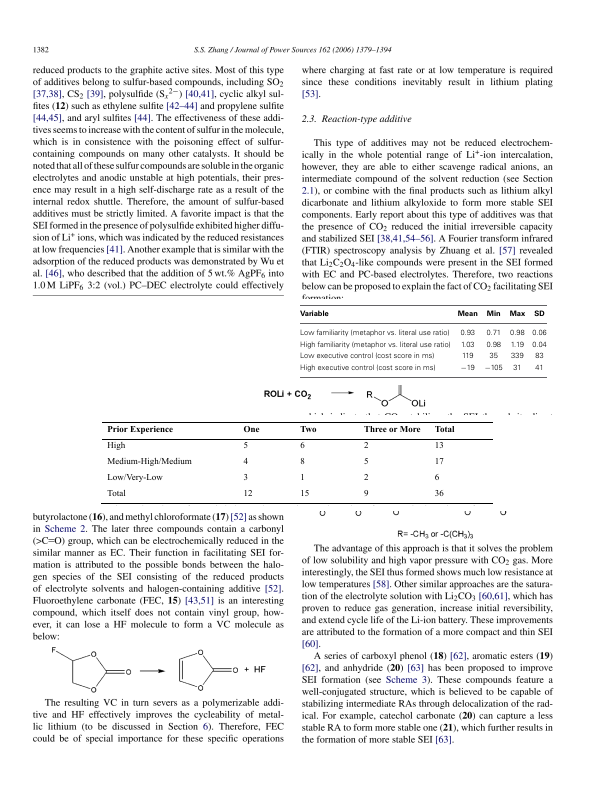borderless: (101, 420, 493, 503), (299, 304, 547, 378)
cell: (298, 341, 451, 350), (298, 329, 450, 338), (298, 364, 436, 373), (298, 352, 435, 361), (106, 457, 192, 467), (106, 424, 173, 434), (362, 424, 421, 434), (106, 473, 163, 483), (298, 310, 329, 318), (433, 424, 455, 434), (106, 441, 126, 451), (106, 489, 126, 499), (242, 424, 260, 434), (299, 424, 317, 434), (483, 364, 503, 373), (456, 310, 478, 318), (508, 329, 525, 338), (459, 329, 475, 338), (485, 329, 501, 338), (531, 329, 547, 338), (459, 341, 475, 350), (485, 341, 501, 350), (531, 341, 547, 350), (459, 364, 475, 373), (508, 310, 525, 318), (509, 341, 524, 350), (509, 352, 524, 361), (485, 310, 501, 318), (460, 352, 474, 361), (433, 441, 444, 451), (433, 457, 444, 467), (242, 489, 253, 499), (299, 489, 310, 499), (433, 489, 444, 499), (533, 310, 545, 318), (488, 352, 498, 361), (534, 352, 544, 361), (512, 364, 522, 373), (534, 364, 544, 373), (362, 441, 369, 451), (362, 457, 369, 467), (362, 473, 369, 483), (433, 473, 440, 483), (362, 489, 369, 499), (242, 441, 248, 451), (299, 441, 305, 451), (242, 457, 248, 467), (299, 457, 305, 467), (242, 473, 248, 483), (299, 473, 305, 483)
